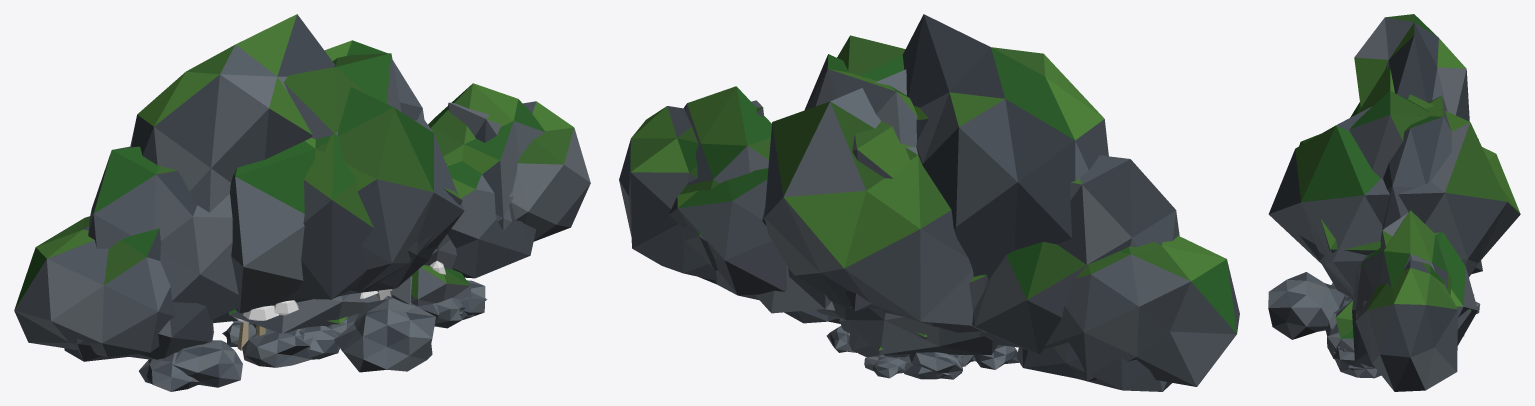
File: dungeon-cave.glb
3 renders of one model, left to right at view 1: azimuth 30°, elevation 25°; view 2: azimuth 150°, elevation 25°; view 3: azimuth 270°, elevation 25°, orthographic. The views are drawn at different scales.
Parts seen in each view (by area): view 1: dk_cave_wall0, dk_cave_cornerOut, dk_cave_wall1, dk_cave_cornerIn, dk_cave_wall3, dk_cave_wall2, dk_cave_wall2Glow; view 2: dk_cave_wall3, dk_cave_wall0, dk_cave_cornerOut, dk_cave_wall1, dk_cave_wall2, dk_cave_cornerIn, dk_cave_rock0, dk_cave_stalagmite1, dk_cave_scatter1, dk_cave_scatter2, dk_cave_stalagmite0; view 3: dk_cave_cornerOut, dk_cave_wall0, dk_cave_cornerIn, dk_cave_wall3, dk_cave_wall1, dk_cave_wall2.
Boxes of the visible parts, x1=… form: dk_cave_wall0: x1=14, y1=40, x2=590, y2=391; dk_cave_cornerOut: x1=230, y1=87, x2=464, y2=326; dk_cave_wall1: x1=88, y1=83, x2=545, y2=367; dk_cave_cornerIn: x1=284, y1=53, x2=473, y2=372; dk_cave_wall3: x1=130, y1=14, x2=456, y2=336; dk_cave_wall2: x1=64, y1=161, x2=535, y2=361; dk_cave_wall2Glow: x1=233, y1=261, x2=445, y2=323; dk_cave_wall3: x1=755, y1=14, x2=1108, y2=313; dk_cave_wall0: x1=619, y1=54, x2=1239, y2=386; dk_cave_cornerOut: x1=764, y1=69, x2=973, y2=325; dk_cave_wall1: x1=679, y1=86, x2=1179, y2=353; dk_cave_wall2: x1=668, y1=168, x2=1171, y2=391; dk_cave_cornerIn: x1=784, y1=35, x2=913, y2=323; dk_cave_rock0: x1=826, y1=319, x2=974, y2=366; dk_cave_stalagmite1: x1=903, y1=352, x2=962, y2=379; dk_cave_scatter1: x1=858, y1=353, x2=975, y2=378; dk_cave_scatter2: x1=942, y1=345, x2=1019, y2=376; dk_cave_stalagmite0: x1=896, y1=352, x2=962, y2=379; dk_cave_cornerOut: x1=1268, y1=94, x2=1520, y2=335; dk_cave_wall0: x1=1334, y1=95, x2=1457, y2=391; dk_cave_cornerIn: x1=1268, y1=67, x2=1482, y2=352; dk_cave_wall3: x1=1342, y1=14, x2=1469, y2=336; dk_cave_wall1: x1=1325, y1=210, x2=1471, y2=350; dk_cave_wall2: x1=1327, y1=232, x2=1477, y2=369.
Bounding box in the file's own units: 4.9 × 2.58 × 2.11.
